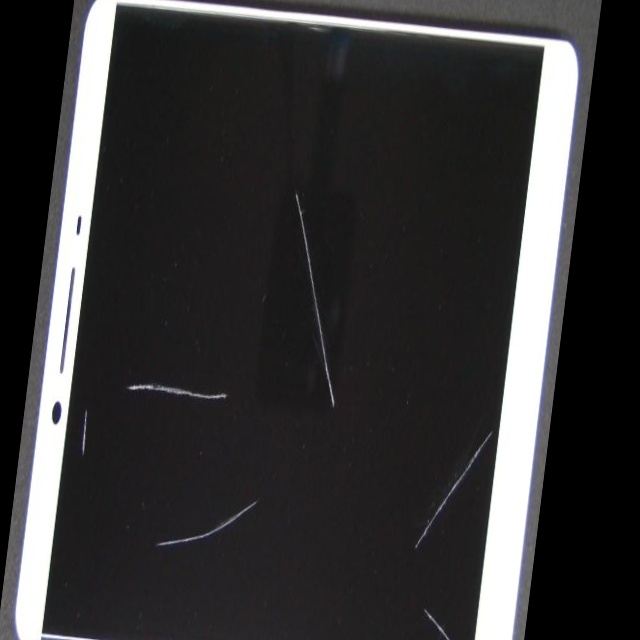scratch: (173, 184, 376, 640), (217, 291, 485, 537), (27, 114, 147, 640)
